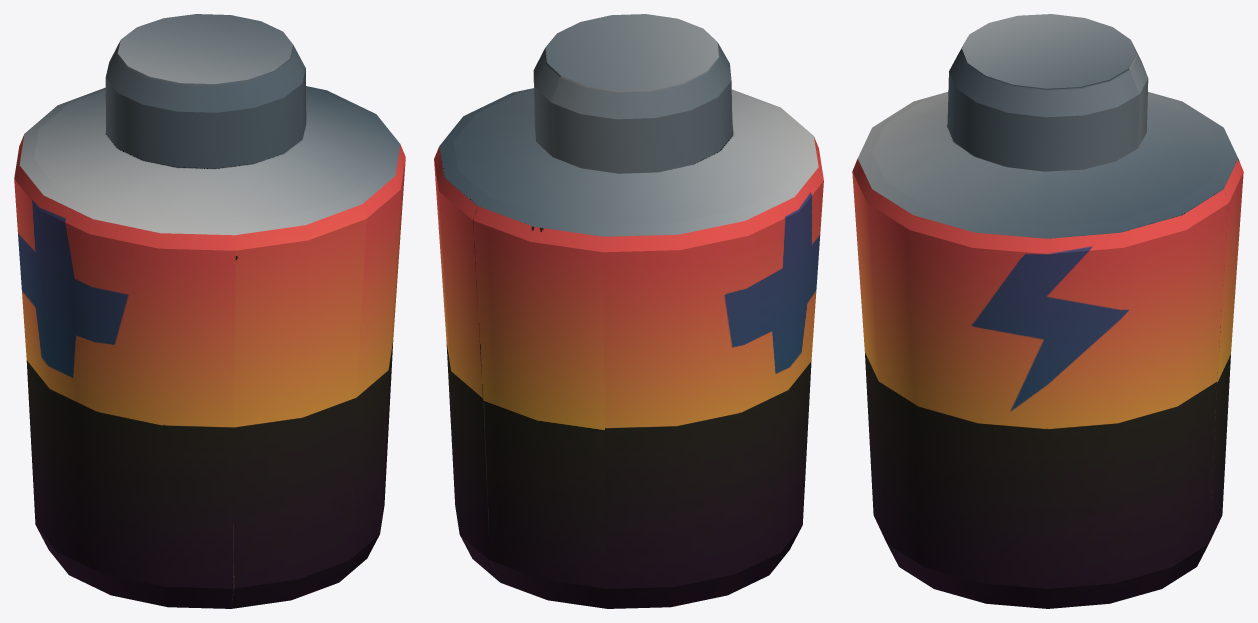
File: Battery.fbx
The picture shows the model from 3 angles, left to right: view 1: azimuth 30°, elevation 25°; view 2: azimuth 150°, elevation 25°; view 3: azimuth 270°, elevation 25°; orthographic projection.
Parts seen in each view (by area): view 1: pCylinder1; view 2: pCylinder1; view 3: pCylinder1.
Part boxes in pixels (x1,y1,x2,y2): pCylinder1: (14, 14, 405, 608); pCylinder1: (434, 14, 823, 608); pCylinder1: (852, 14, 1243, 608).
Bounding box in the file's own units: 107 × 151 × 107.
Materials: 1 (1 with a texture image).
